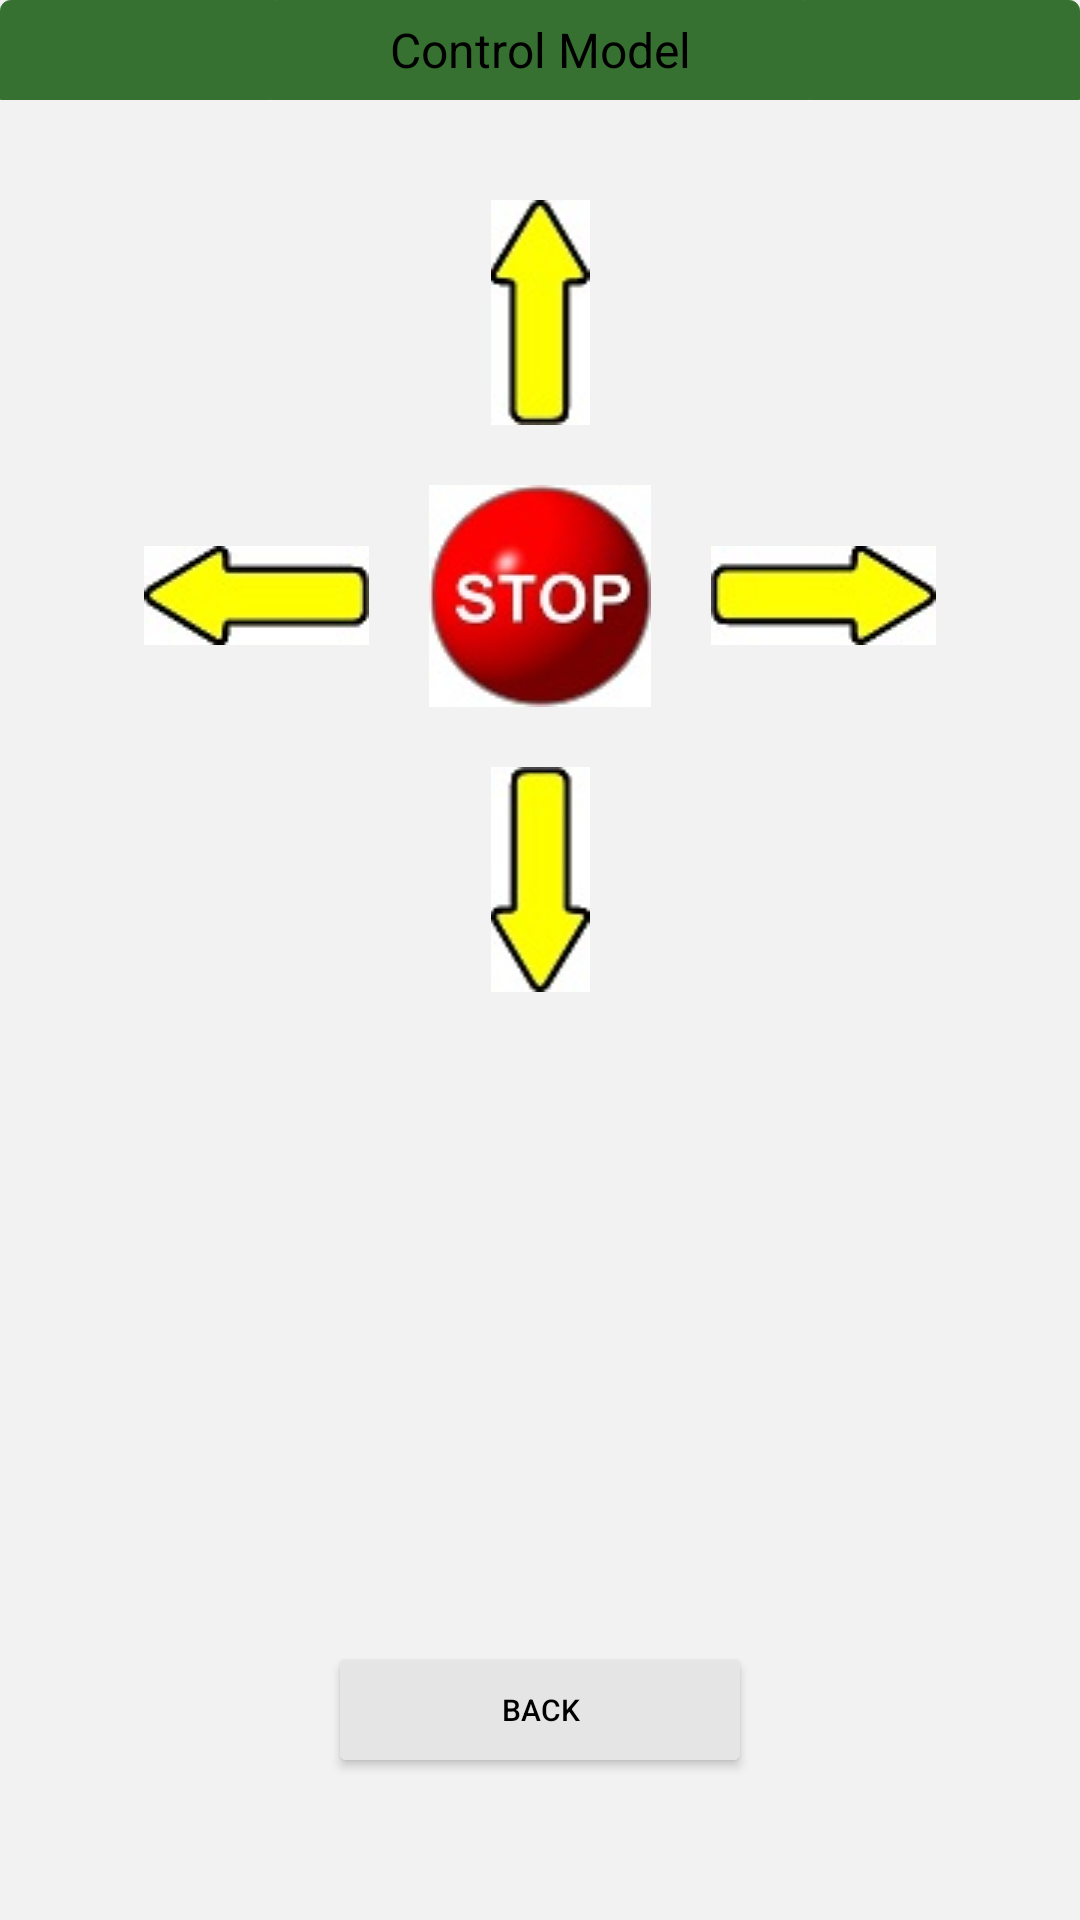

Named icons in this screenshot (1080x1920) and their centers, [x,y]:
backward: [540,879]
forward: [540,312]
left: [256,595]
right: [823,595]
